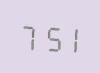five: (39, 19, 58, 53)
one: (59, 20, 78, 54)
seven: (18, 18, 37, 52)
